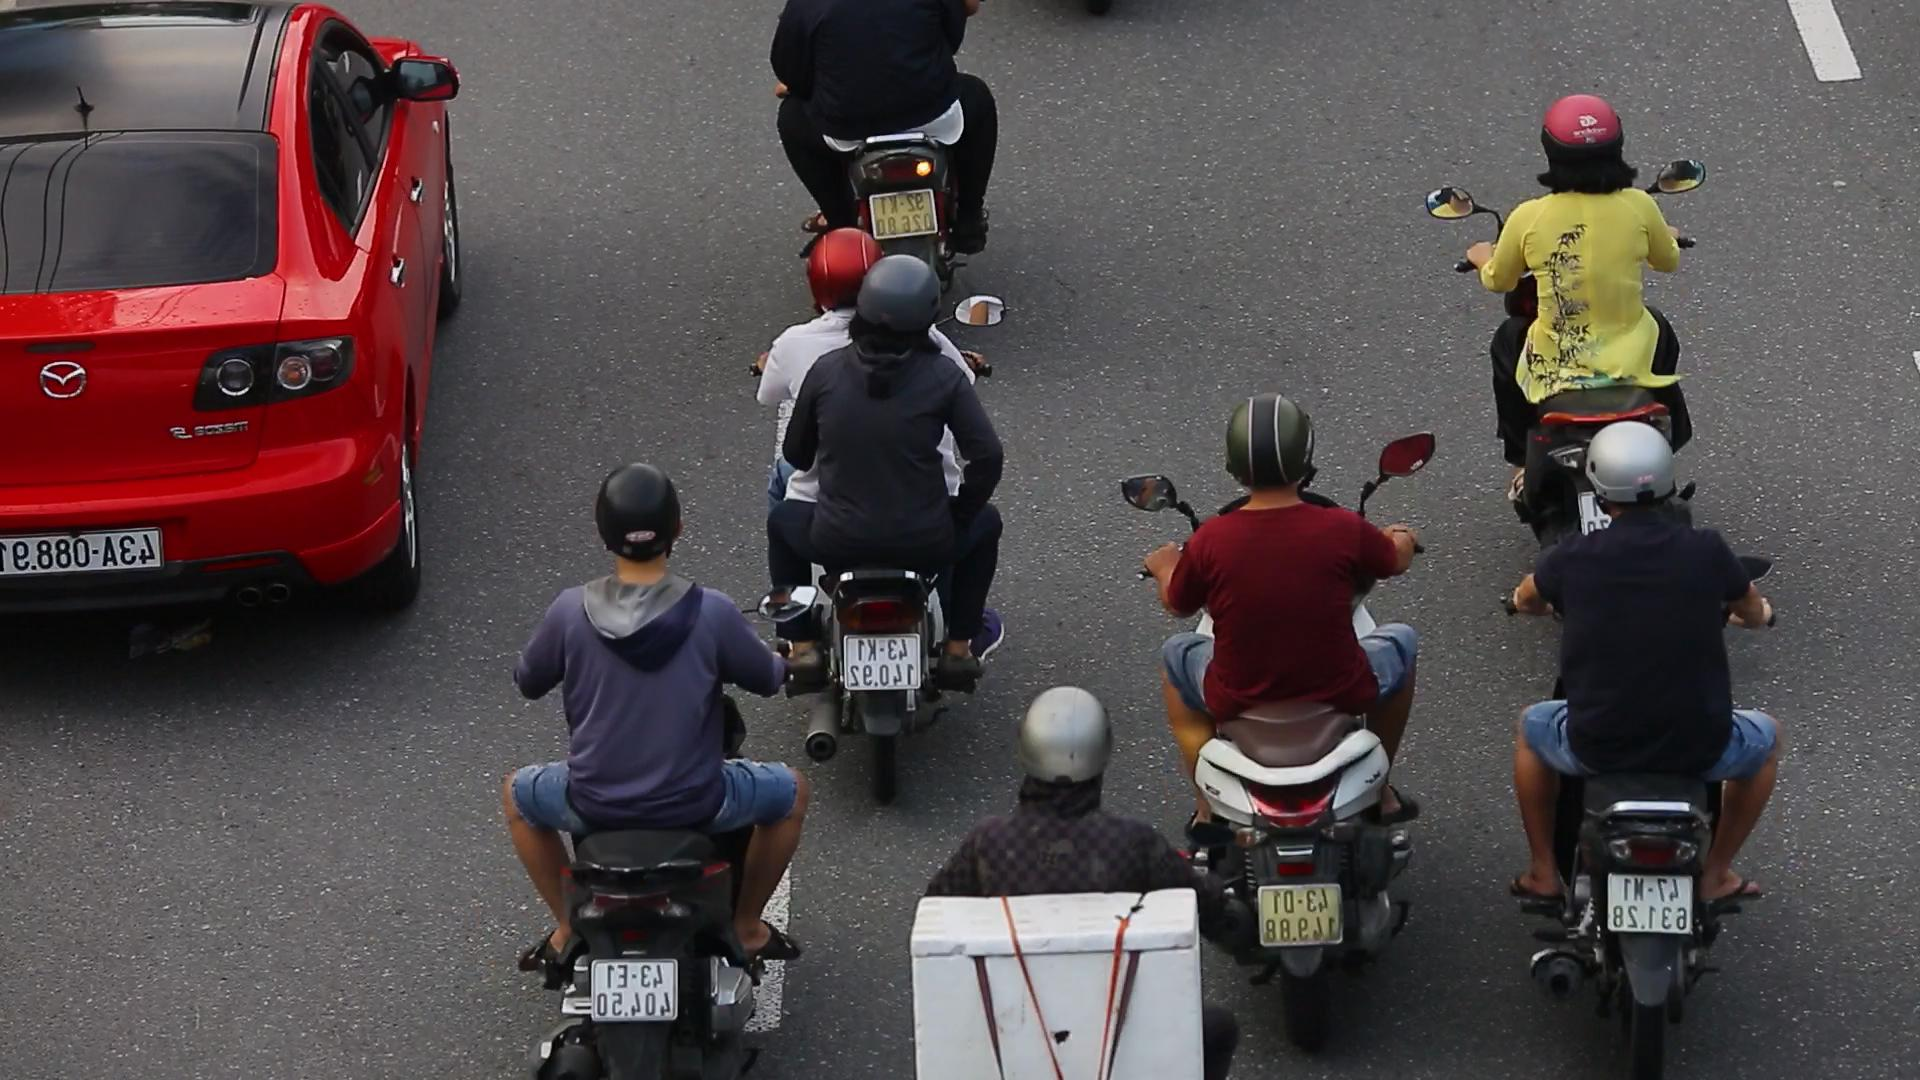motobike: (1494, 407, 1811, 1080), (1155, 378, 1458, 1010), (497, 439, 795, 1080), (742, 240, 1029, 798)
